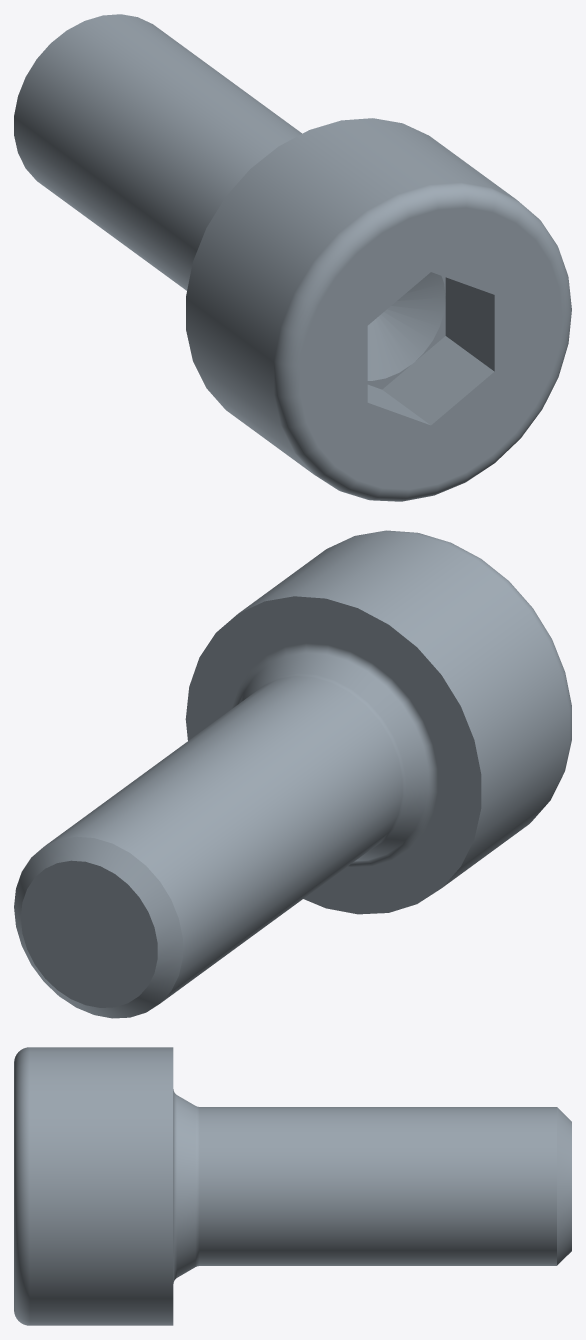
Rendered from Hex_socket_head_cap_screw_M4x0_70_x_10.obj.
3 renders of one model, top to bottom at view 1: azimuth 30°, elevation 25°; view 2: azimuth 150°, elevation 25°; view 3: azimuth 270°, elevation 25°, orthographic. The views are drawn at different scales.
Visible parts, largest first — view 1: mesh279, mesh286, mesh284, mesh285, mesh294, mesh292, mesh287, mesh291; view 2: mesh279, mesh284, mesh283, mesh277, mesh278, mesh281, mesh282, mesh285, mesh280; view 3: mesh279, mesh284, mesh285, mesh281, mesh278, mesh282, mesh280.
Part boxes in pixels (x1,y1,x2,y2): mesh279: [14, 14, 302, 290]; mesh286: [300, 208, 562, 489]; mesh284: [186, 118, 516, 473]; mesh285: [274, 182, 571, 501]; mesh294: [367, 272, 445, 380]; mesh292: [382, 336, 494, 424]; mesh287: [445, 277, 494, 371]; mesh291: [367, 384, 429, 424]; mesh279: [45, 676, 402, 1002]; mesh284: [239, 532, 569, 887]; mesh283: [185, 596, 481, 914]; mesh277: [20, 860, 157, 1007]; mesh278: [14, 836, 182, 1018]; mesh281: [240, 653, 427, 860]; mesh282: [232, 643, 437, 867]; mesh285: [327, 530, 571, 820]; mesh280: [253, 673, 406, 851]; mesh279: [199, 1107, 556, 1265]; mesh284: [30, 1047, 173, 1325]; mesh285: [14, 1047, 29, 1325]; mesh281: [177, 1095, 195, 1277]; mesh278: [557, 1107, 571, 1265]; mesh282: [173, 1089, 177, 1283]; mesh280: [195, 1106, 199, 1266].
Size of the model in its own units: 0.00698 by 0.00699 by 0.014.
